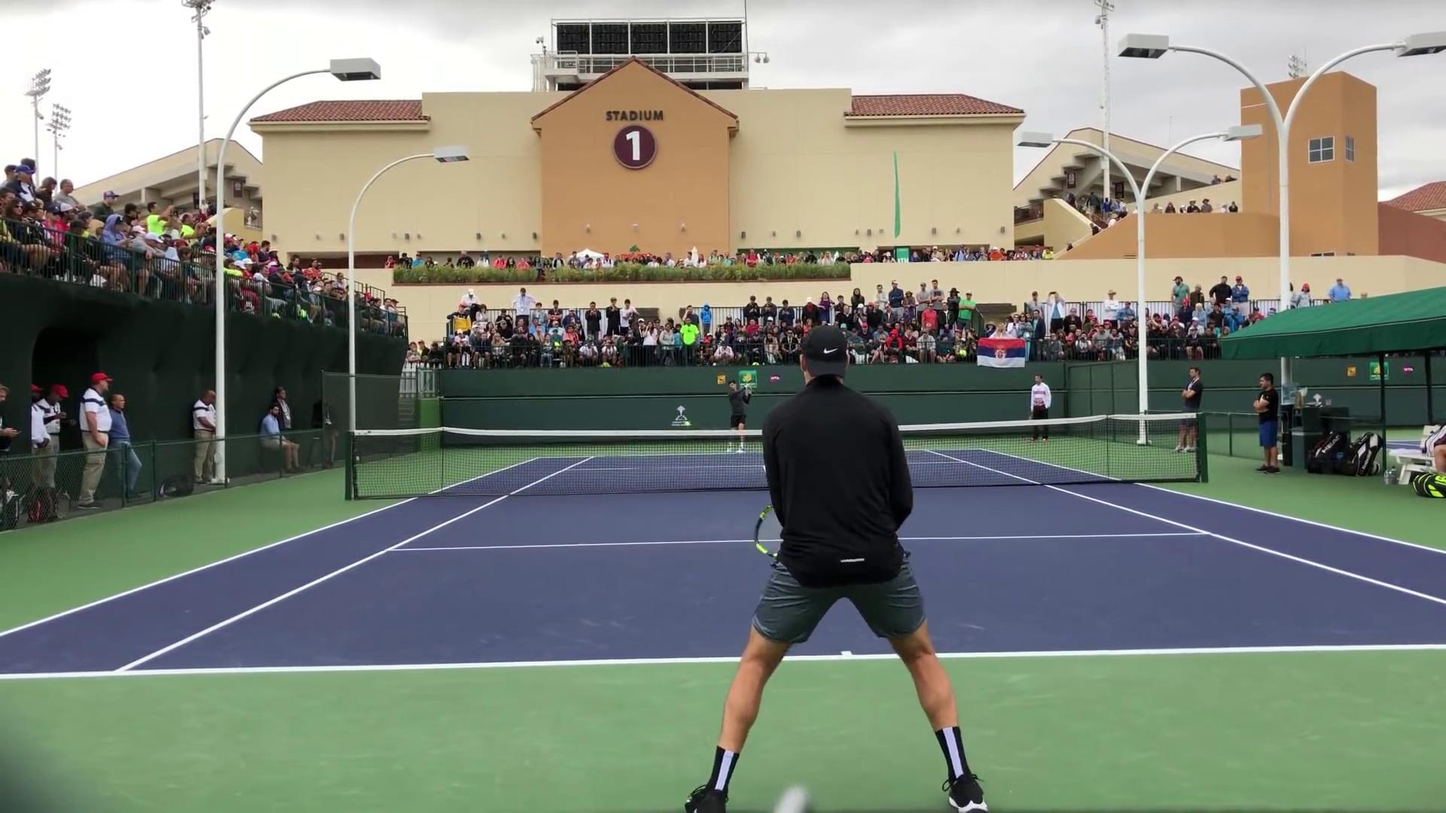ball: (680, 418, 695, 429)
